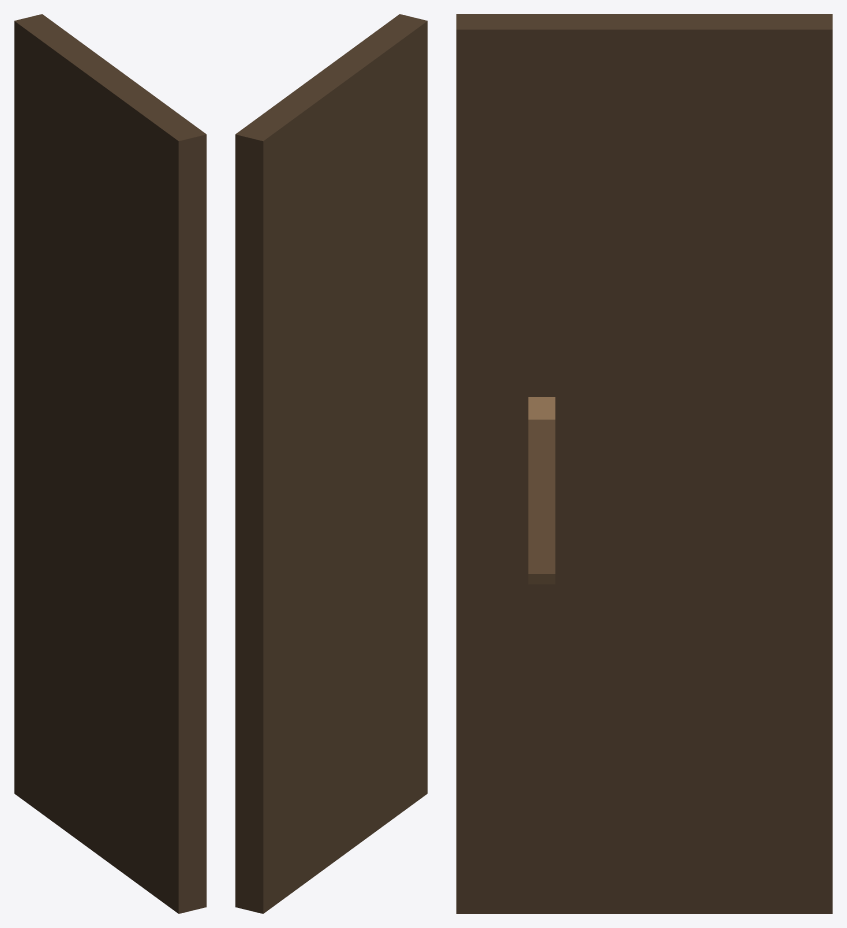
File: WardrobeDoorRight_Bedroom_V1.fbx
3 views of the same model, side by side, from view 1: azimuth 30°, elevation 25°; view 2: azimuth 150°, elevation 25°; view 3: azimuth 270°, elevation 25° (orthographic). The views are drawn at different scales.
Visible parts, largest first — view 1: Cube.025; view 2: Cube.025; view 3: Cube.025, Cube.027.
Part boxes in pixels (box(x1,y1,x2,y2)): Cube.025: box(14, 14, 206, 913); Cube.025: box(235, 14, 427, 913); Cube.025: box(456, 14, 832, 913); Cube.027: box(528, 397, 555, 584).
Size of the model in its own units: 13.3 by 251 by 96.99.
